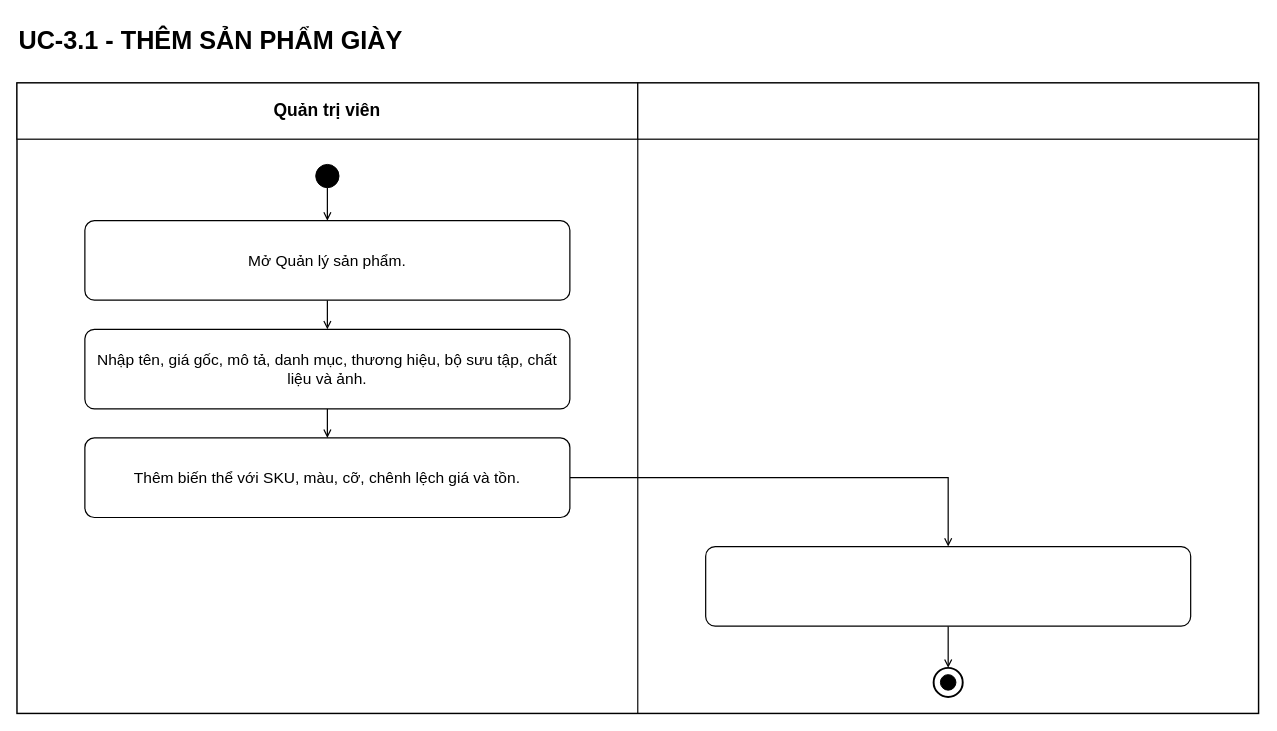
Some shapes in this 1277 by 731 pixel diagram are drawn without their labels. The shapes that lost their labels are listed below. From the top down, each one's centre as x and y in pixels, then its label:
pixel 948 110: Hệ thống ShoeGroup
pixel 948 586: Hệ thống kiểm tra dữ liệu và lưu toàn bộ trong giao dịch.
